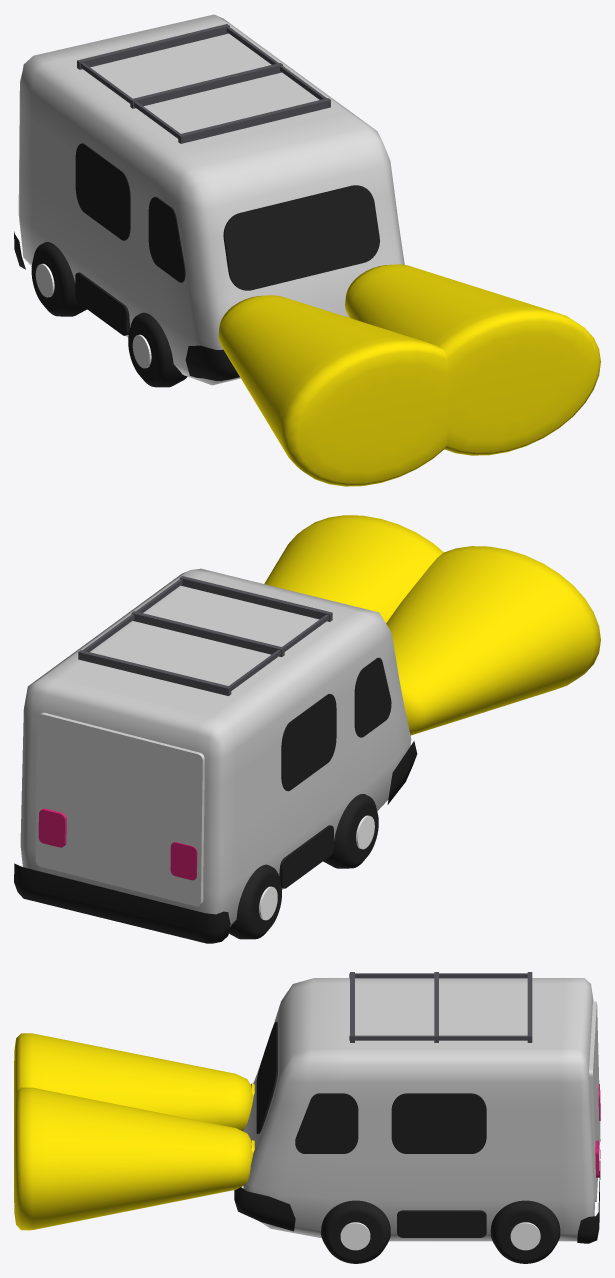
Rendered from camper_van.glb.
3 renders of one model, top to bottom at view 1: azimuth 30°, elevation 25°; view 2: azimuth 150°, elevation 25°; view 3: azimuth 270°, elevation 25°, orthographic. The views are drawn at different scales.
Visible parts, largest first — view 1: body, Cone, Cone 2, Front Window, Rectangle (×2), Ellipse 3 (×2), Rectangle 2 (×2), Rectangle 3 (×2), bumper, Rectangle 6, Rectangle 5; view 2: body, Cone, back door, Cone 2, rear bumper, Rectangle (×2), Ellipse 3 (×2), Rectangle 2 (×2), Rectangle 3 (×2), Headlight 2, Headlight, Rectangle 6 (+2 smaller); view 3: body, Cone 2, Cone, Rectangle 2 (×2), Rectangle, Ellipse (×2), Ellipse 2 (×2), bumper, Front Window, back door, Rectangle 6, Rectangle 5 (+2 smaller).
Boxes of the visible parts, bbox=[...] form: body: bbox=[18, 14, 404, 385]; Cone: bbox=[218, 295, 448, 486]; Cone 2: bbox=[345, 264, 600, 455]; Front Window: bbox=[223, 185, 379, 290]; Rectangle (×2): bbox=[75, 98, 330, 240]; Ellipse 3 (×2): bbox=[31, 242, 187, 387]; Rectangle 2 (×2): bbox=[130, 63, 282, 282]; Rectangle 3 (×2): bbox=[75, 24, 229, 335]; bumper: bbox=[185, 345, 239, 381]; Rectangle 6: bbox=[80, 62, 184, 141]; Rectangle 5: bbox=[226, 27, 330, 105]; body: bbox=[20, 568, 411, 926]; Cone: bbox=[386, 546, 600, 735]; back door: bbox=[35, 712, 204, 906]; Cone 2: bbox=[264, 515, 443, 623]; rear bumper: bbox=[14, 863, 230, 943]; Rectangle (×2): bbox=[179, 576, 336, 791]; Ellipse 3 (×2): bbox=[229, 794, 378, 939]; Rectangle 2 (×2): bbox=[131, 611, 391, 737]; Rectangle 3 (×2): bbox=[78, 650, 333, 888]; Headlight 2: bbox=[38, 808, 66, 847]; Headlight: bbox=[170, 842, 197, 880]; Rectangle 6: bbox=[229, 614, 328, 690]; body: bbox=[243, 978, 595, 1241]; Cone 2: bbox=[14, 1087, 252, 1230]; Cone: bbox=[14, 1033, 253, 1131]; Rectangle 2 (×2): bbox=[295, 1093, 486, 1237]; Rectangle: bbox=[391, 1093, 486, 1153]; Ellipse (×2): bbox=[320, 1200, 390, 1263]; Ellipse 2 (×2): bbox=[490, 1200, 560, 1263]; bumper: bbox=[234, 1187, 295, 1231]; Front Window: bbox=[256, 1022, 277, 1134]; back door: bbox=[589, 1001, 600, 1201]; Rectangle 6: bbox=[349, 973, 527, 978]; Rectangle 5: bbox=[349, 1035, 527, 1040].
Size of the model in its own units: 2.65 by 1.99 by 4.9.
